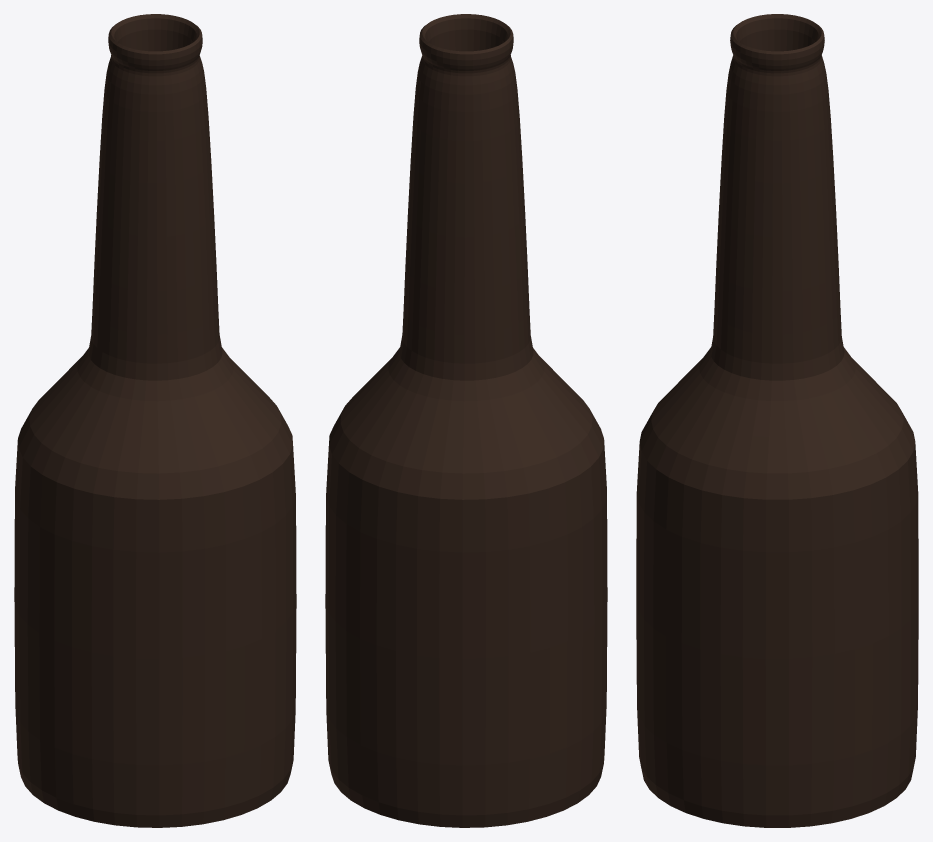
File: beerbottle001.glb
3 renders of one model, left to right at view 1: azimuth 30°, elevation 25°; view 2: azimuth 150°, elevation 25°; view 3: azimuth 270°, elevation 25°, orthographic.
Parts seen in each view (by area): view 1: bottle; view 2: bottle; view 3: bottle.
Boxes of the visible parts, bbox=[...] form: bottle: bbox=[14, 14, 296, 827]; bottle: bbox=[325, 14, 607, 827]; bottle: bbox=[636, 14, 918, 827].
Size of the model in its own units: 0.2905 by 0.8403 by 0.2915.
